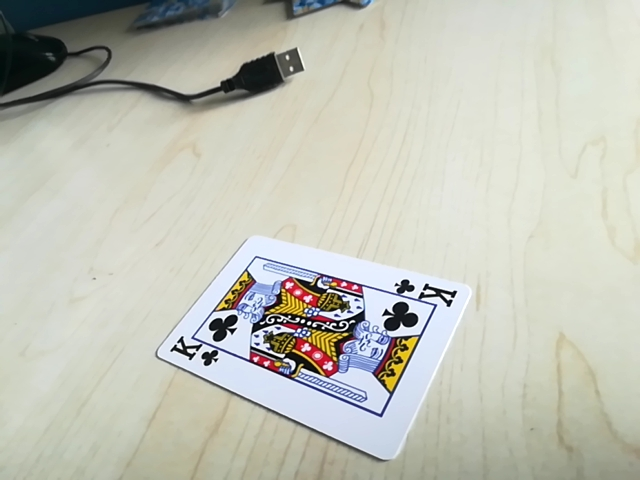mh k: (391, 276, 461, 307), (165, 344, 225, 369)
